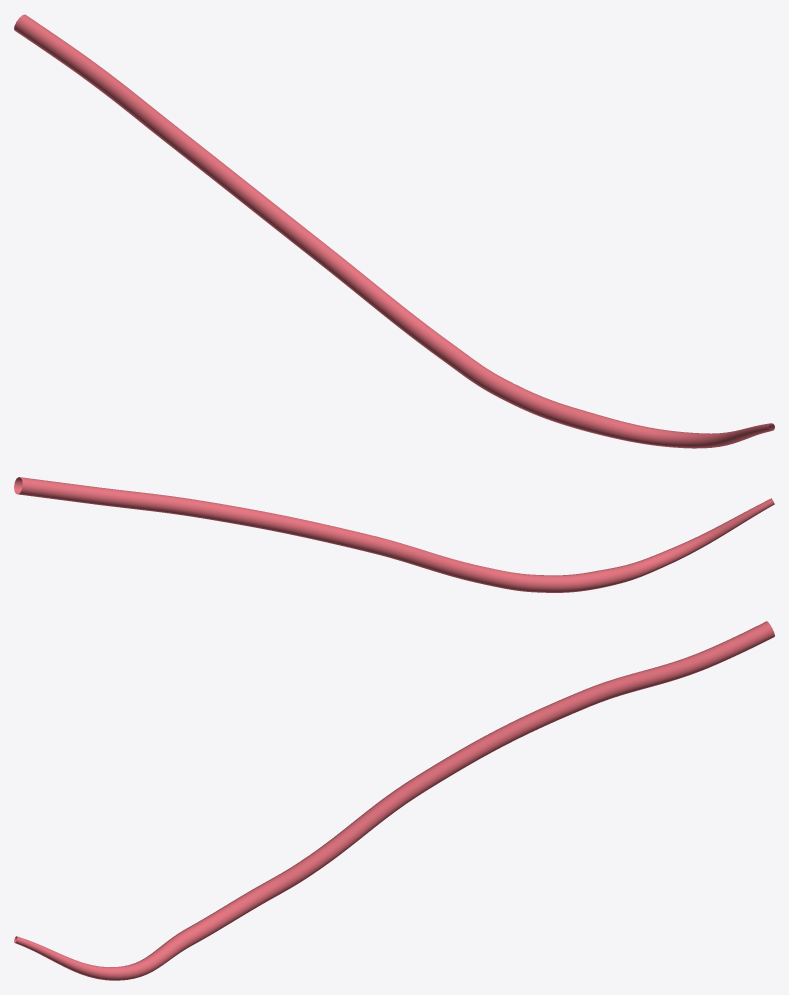
3 renders of one model, top to bottom at view 1: azimuth 90°, elevation 25°; view 2: azimuth 150°, elevation 25°; view 3: azimuth 330°, elevation 25°, orthographic. The views are drawn at different scales.
Visible parts, largest first — view 1: ZA_105ef98bbd342222; view 2: ZA_105ef98bbd342222; view 3: ZA_105ef98bbd342222.
Boxes of the visible parts, x1,y1,x2,y2 form: ZA_105ef98bbd342222: (14,14,774,448); ZA_105ef98bbd342222: (14,477,774,592); ZA_105ef98bbd342222: (14,621,774,980).
Size of the model in its own units: 0.0276 by 0.014 by 0.0388.
